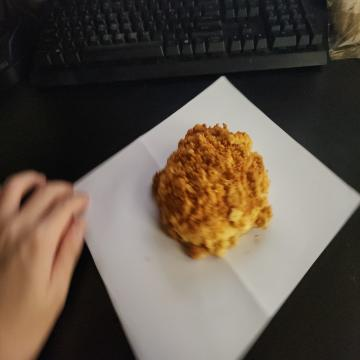soboru_bread: (147, 124, 274, 260)
